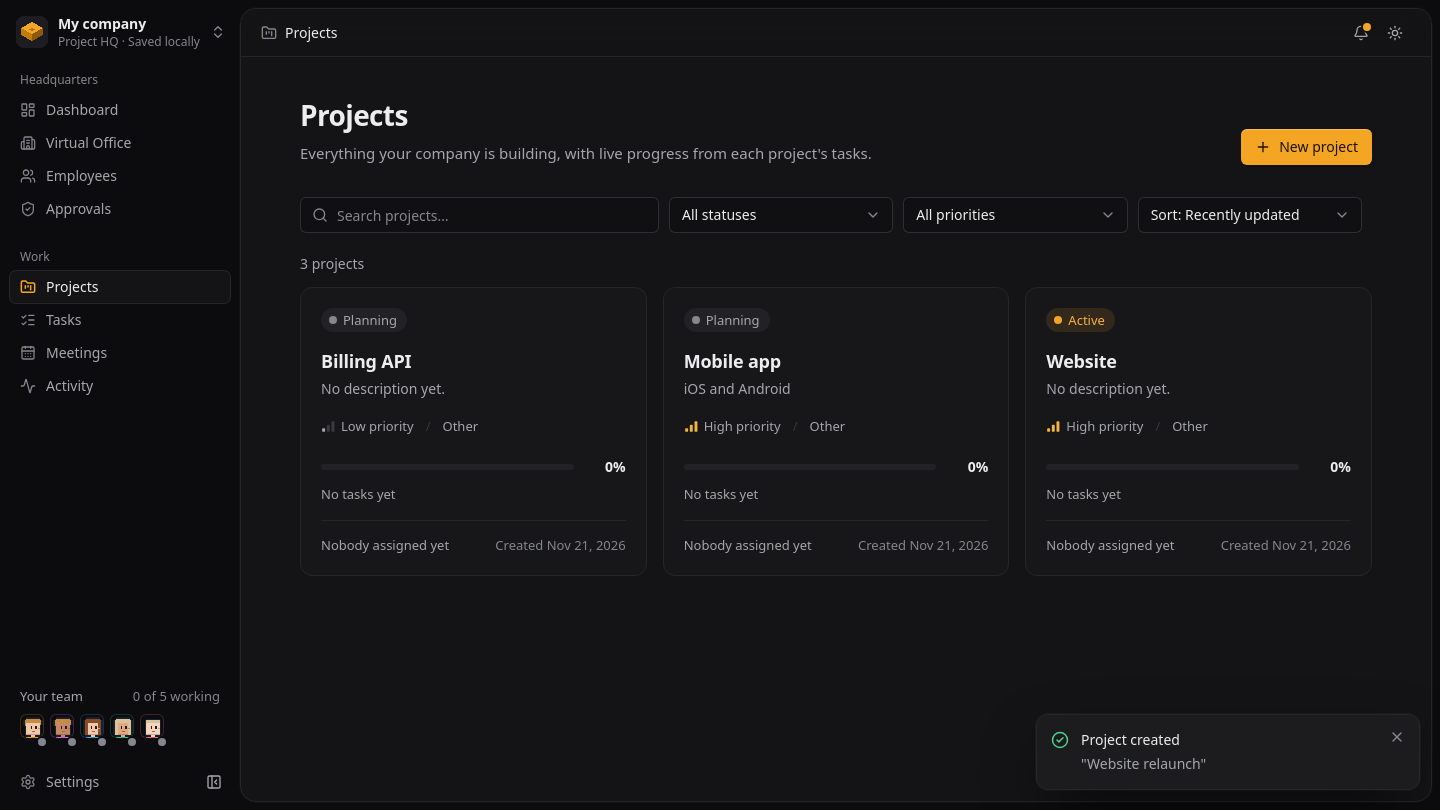
projects list › filters by search, status and priority, and clears filters
In the search field labelled "Search projects": (480, 215) [300,197,659,233], type "android"
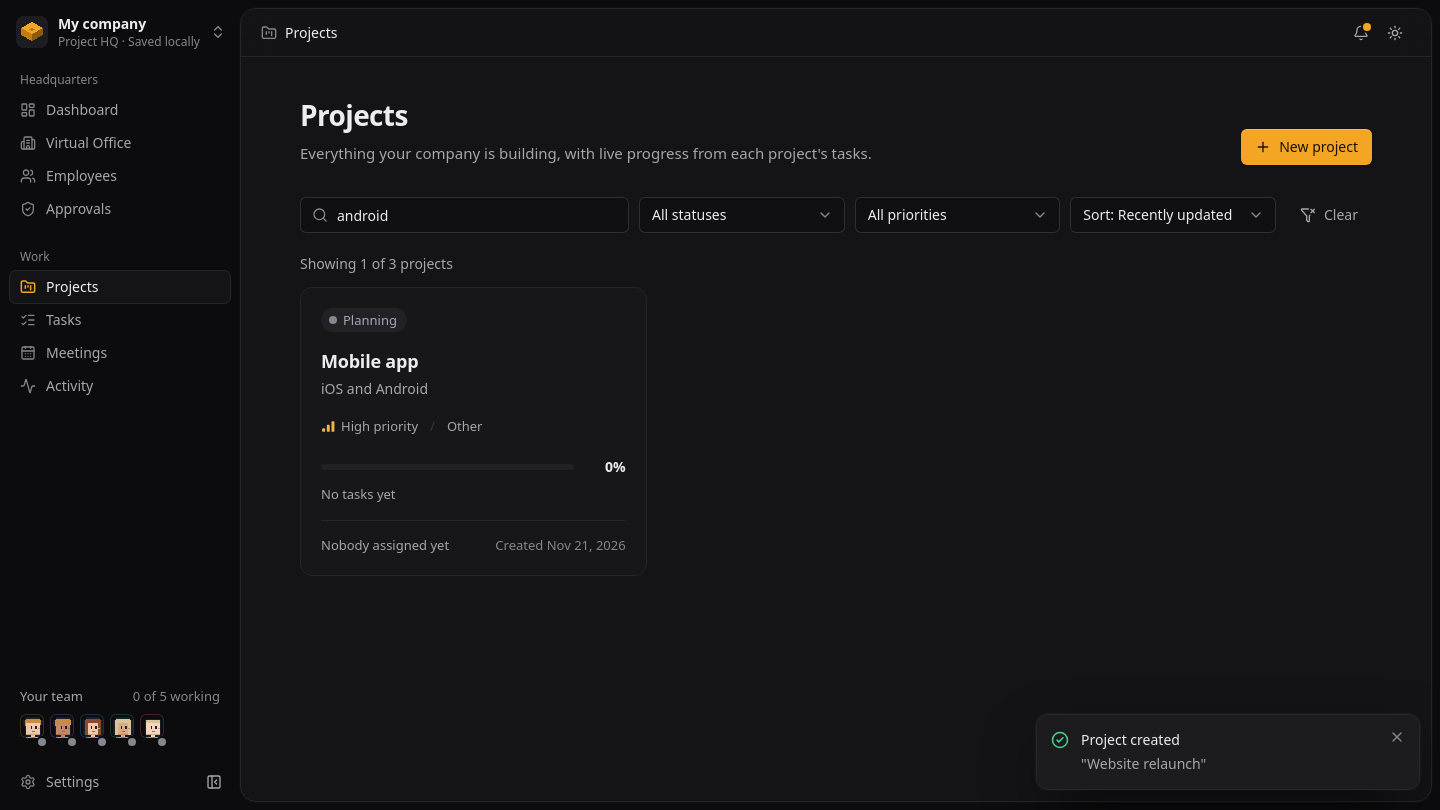
Result: the text "Showing 1 of 3 projects" is shown at [300,254,453,273]
Click the button "Clear": (1329, 215) [1286,197,1372,233]
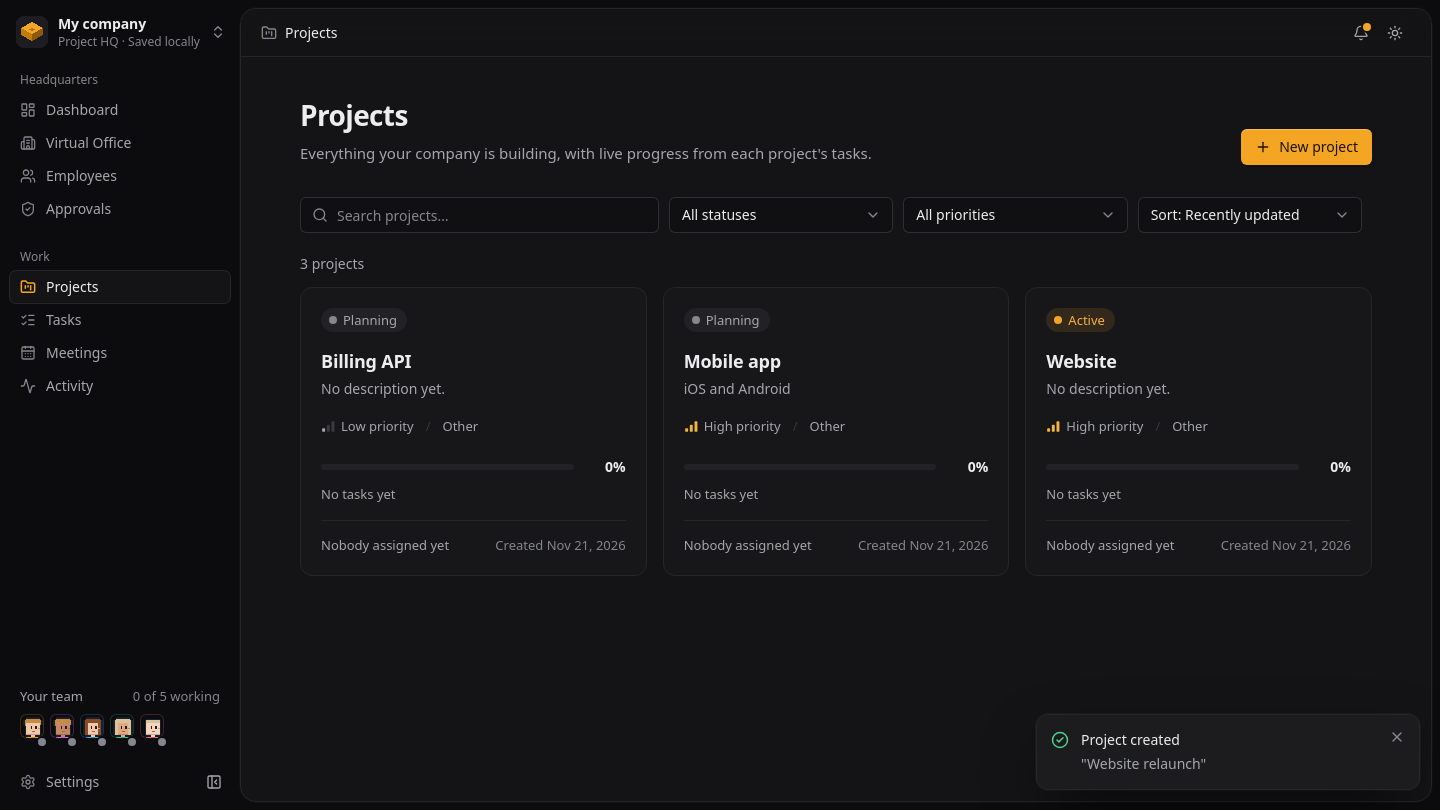
Select "Active" in the 1st dropdown named "Status": (781, 215) [669,197,893,233]
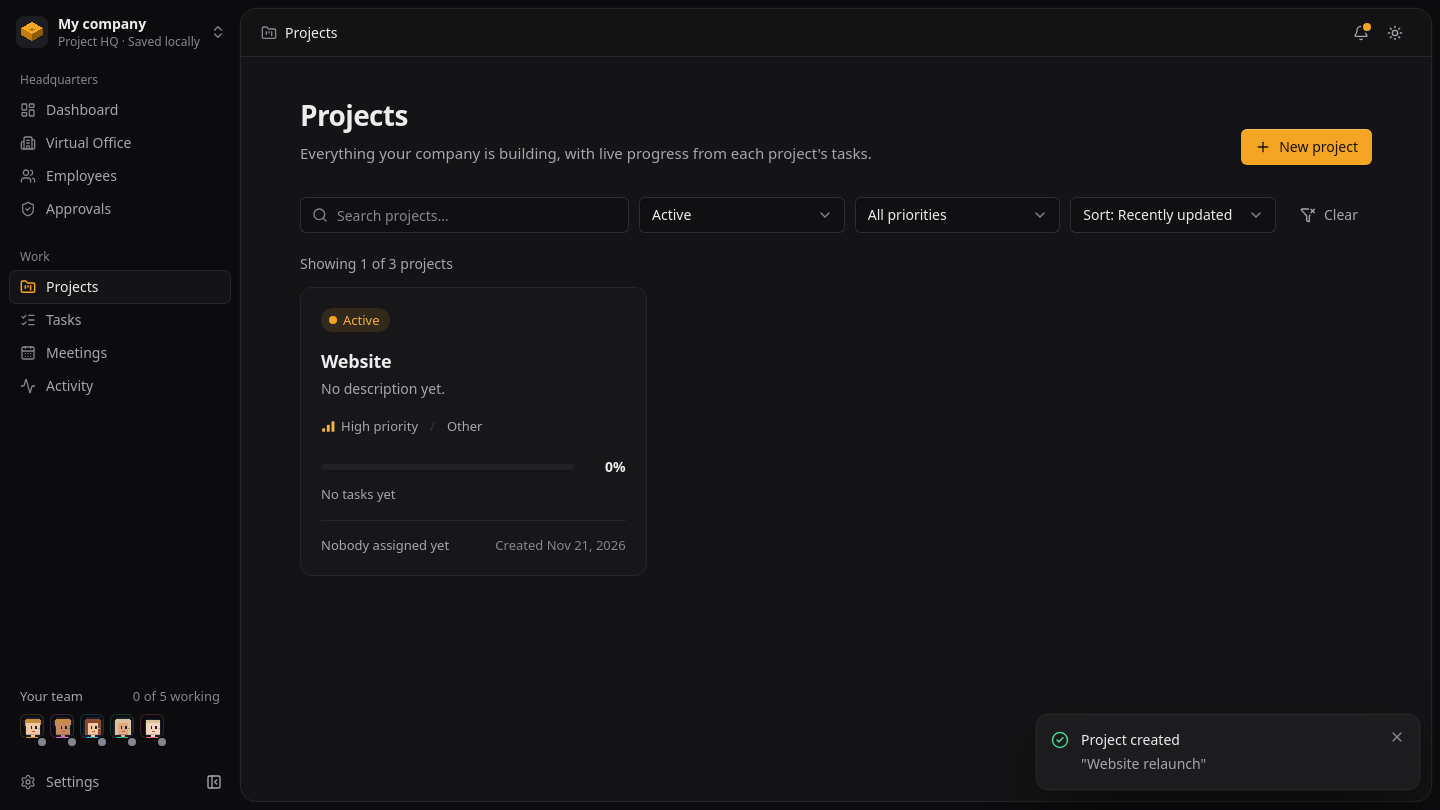
Select "All statuses" in the 1st dropdown named "Status": (742, 215) [639,197,845,233]
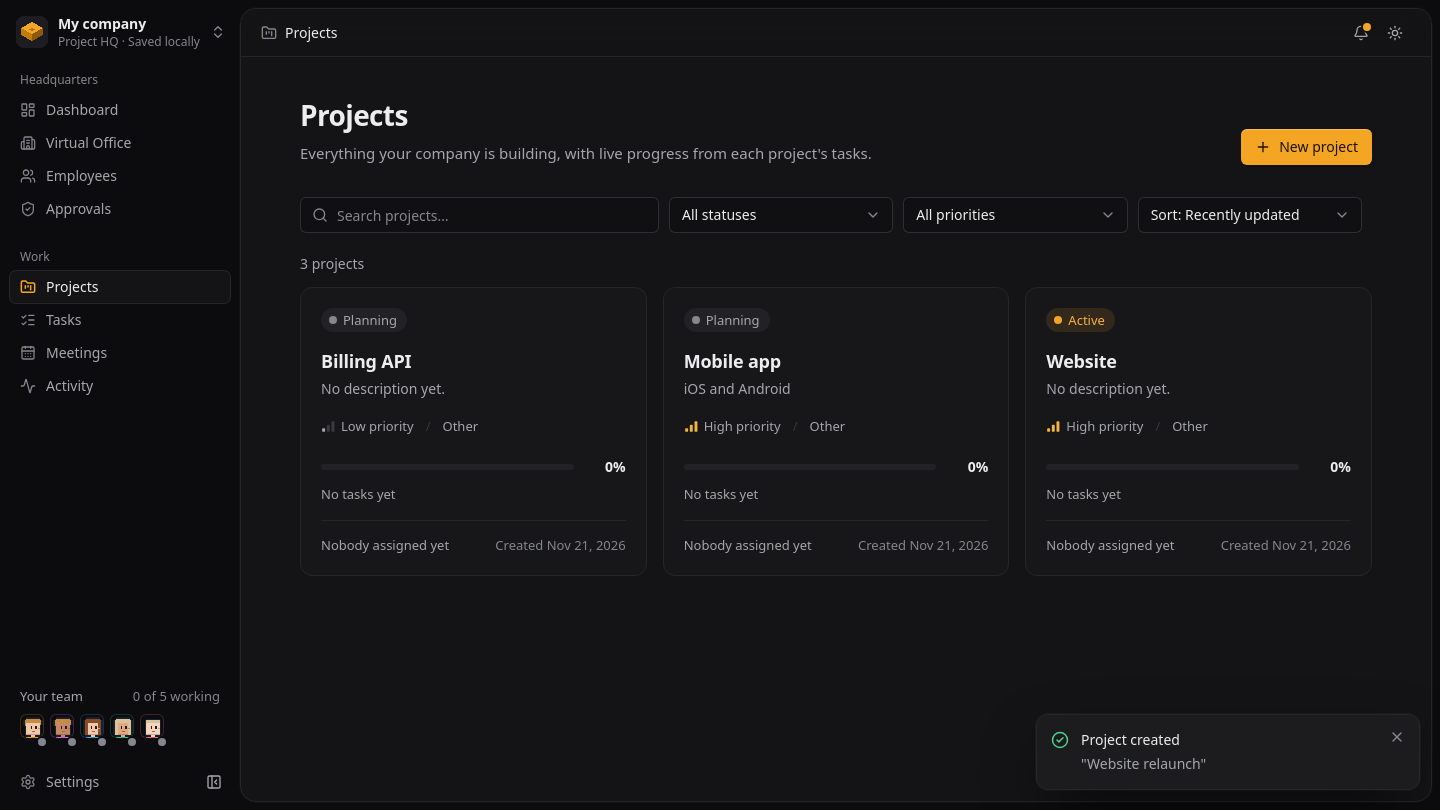
Select "High" in the 2nd dropdown named "Priority": (1015, 215) [903,197,1128,233]
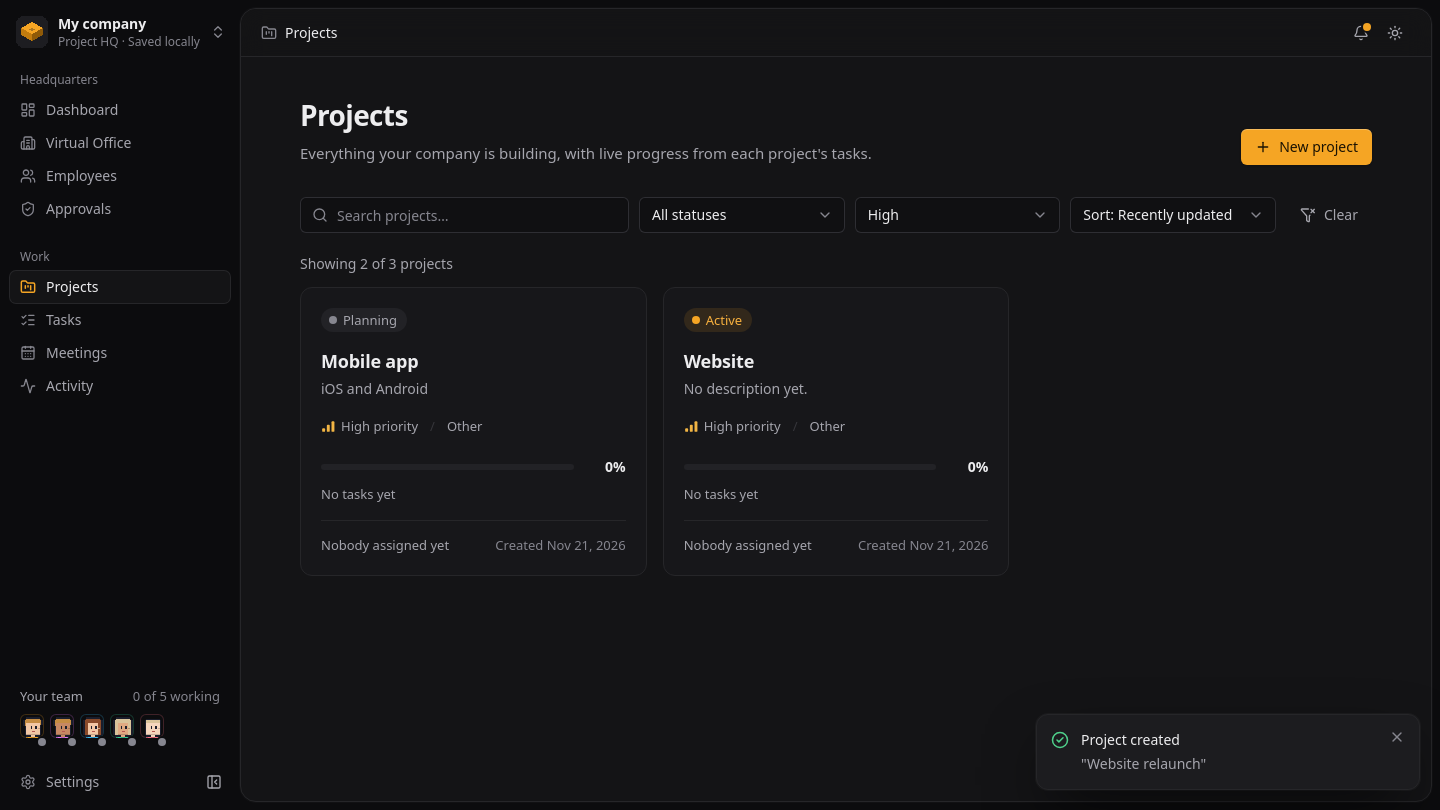
Select "Sort: Name (A–Z)" in the 3rd dropdown named "Sort by": (1173, 215) [1070,197,1276,233]
In the search field labelled "Search projects": (464, 215) [300,197,629,233], type "nothing like this"
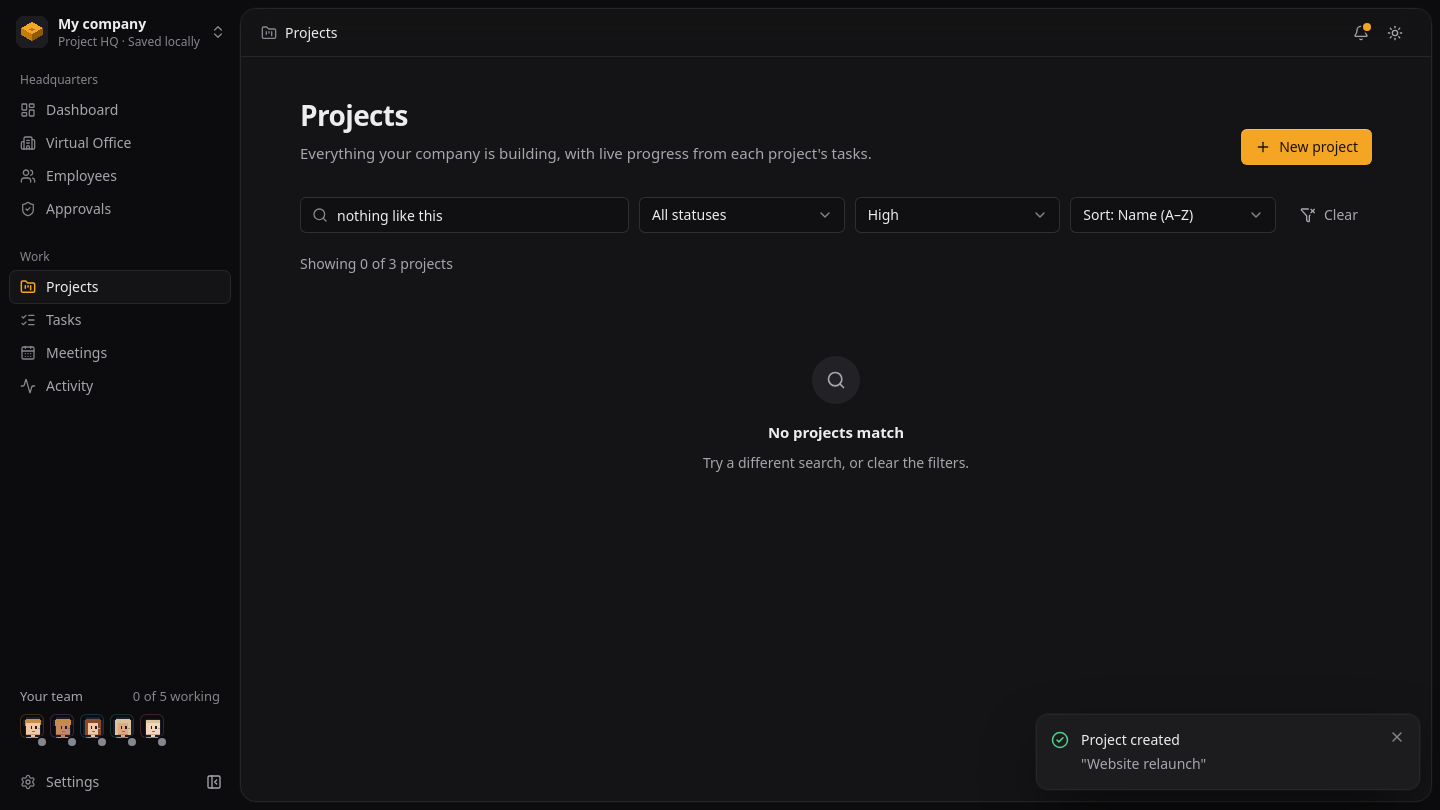
Result: the heading "No projects match" is shown at [768,420,904,444]
